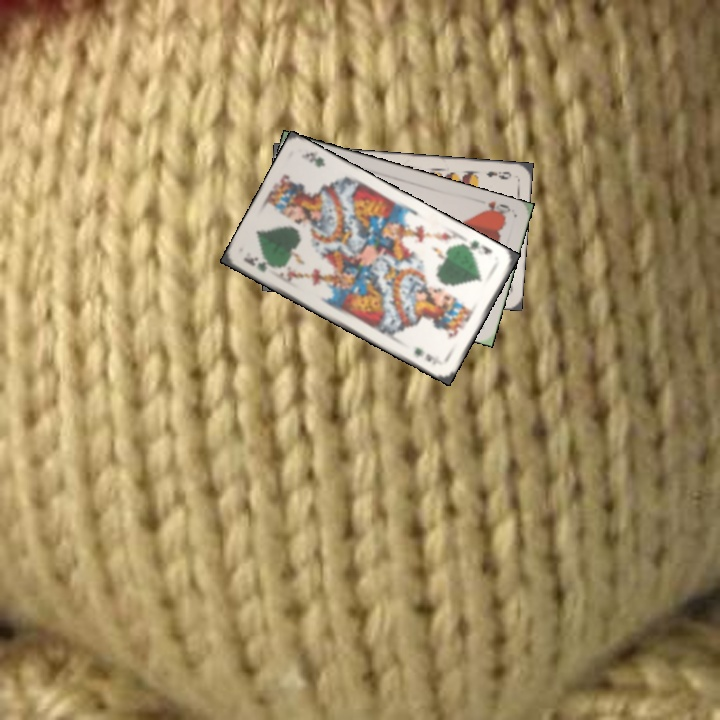E9: (482, 167, 514, 182)
GK: (239, 253, 279, 275), (461, 236, 494, 257)
HO: (478, 196, 513, 220)
